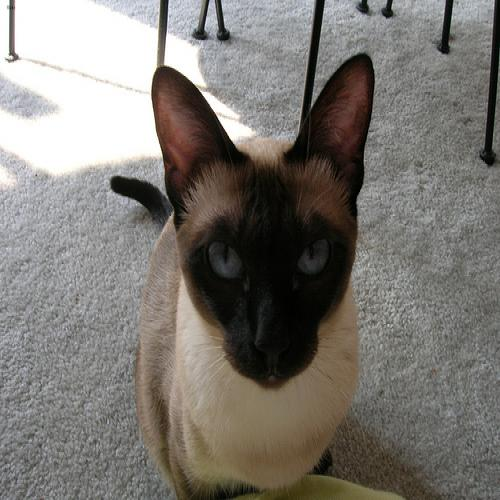siamese: (142, 37, 391, 415)
